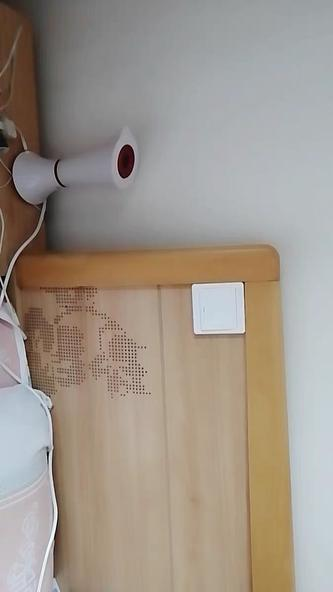switch: (199, 291, 242, 336)
